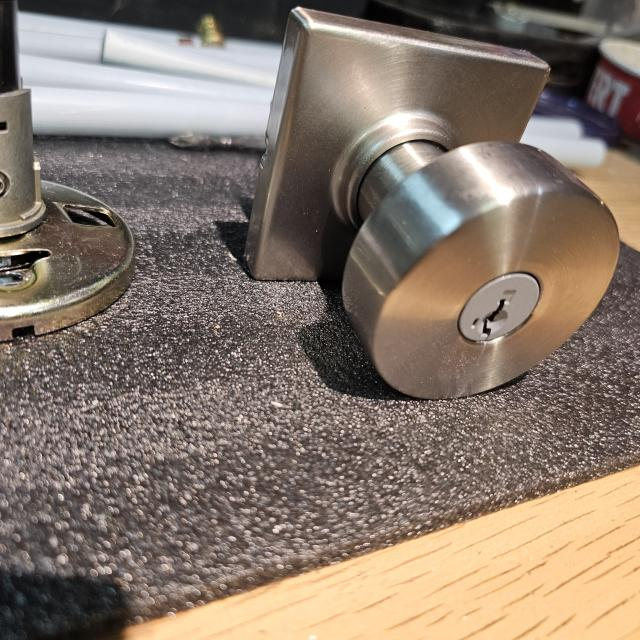door-knob: (246, 9, 619, 399)
